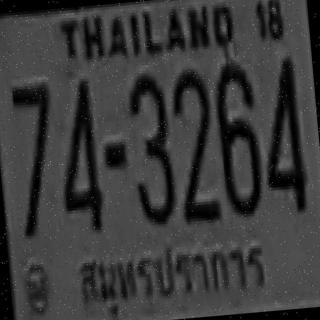N02: (170, 66, 218, 221)
N03: (124, 69, 176, 223)
N04: (51, 75, 104, 230), (255, 54, 306, 211)
N06: (211, 58, 262, 216)
N07: (9, 80, 60, 235)
P57: (70, 228, 277, 320)
